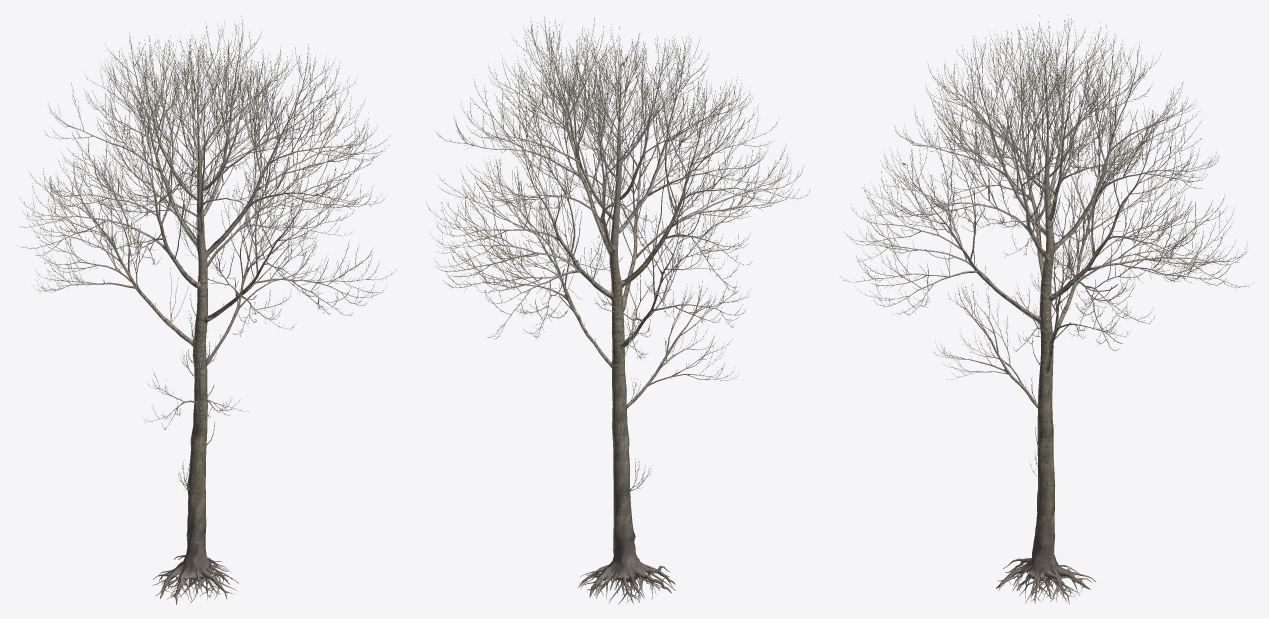
File: Populus nigra HD_Forest 2 winter mat 100_LOD2.fbx
3 views of the same model, side by side, from view 1: azimuth 30°, elevation 25°; view 2: azimuth 150°, elevation 25°; view 3: azimuth 270°, elevation 25° (orthographic). The views are drawn at different scales.
Parts seen in each view (by area): view 1: Populus_nigra_HD; view 2: Populus_nigra_HD; view 3: Populus_nigra_HD.
Part boxes in pixels (x1,y1,x2,y2): Populus_nigra_HD: (19, 15, 396, 604); Populus_nigra_HD: (426, 17, 809, 604); Populus_nigra_HD: (840, 15, 1253, 604).
Bounding box in the file's own units: 18.51 × 29.79 × 19.87.
6 materials, 6 textured.
